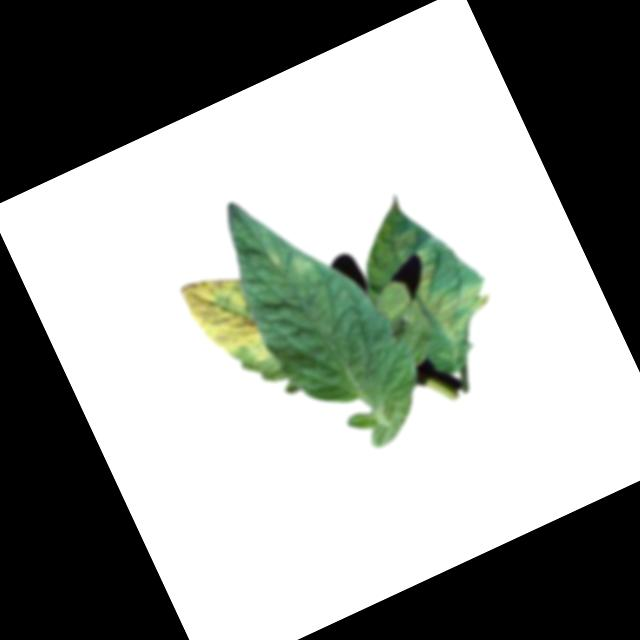Leaf_Mold: (344, 189, 506, 370), (176, 262, 279, 385), (264, 233, 320, 286)
